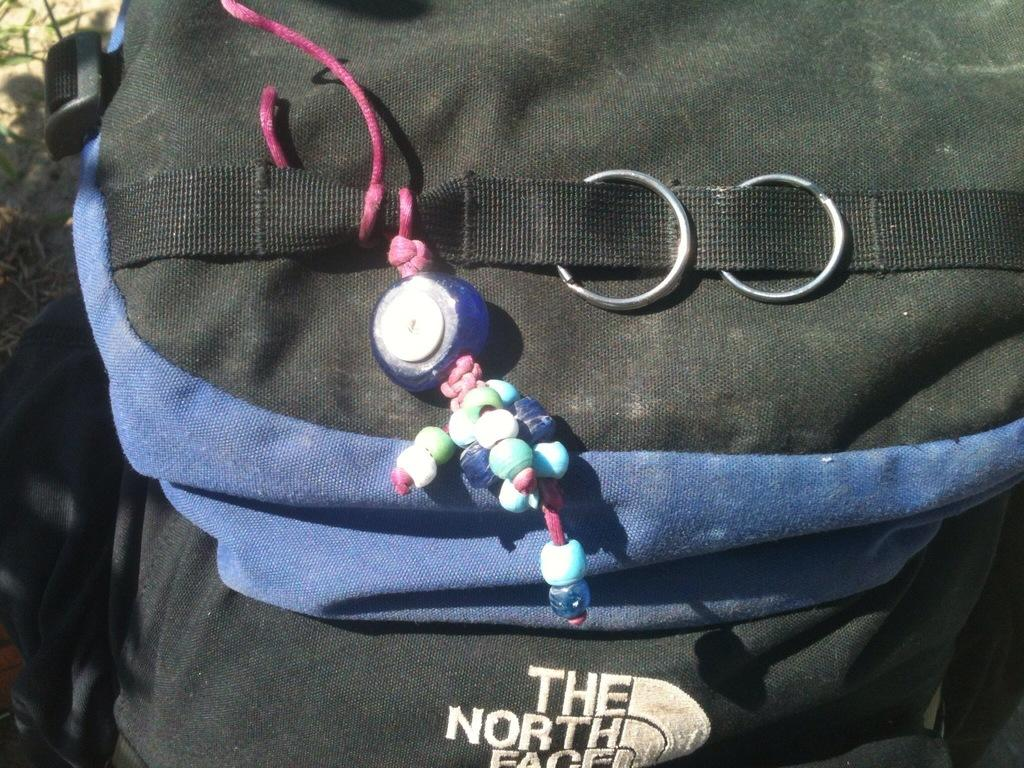Luggage-and-bags: (40, 0, 1023, 767)
